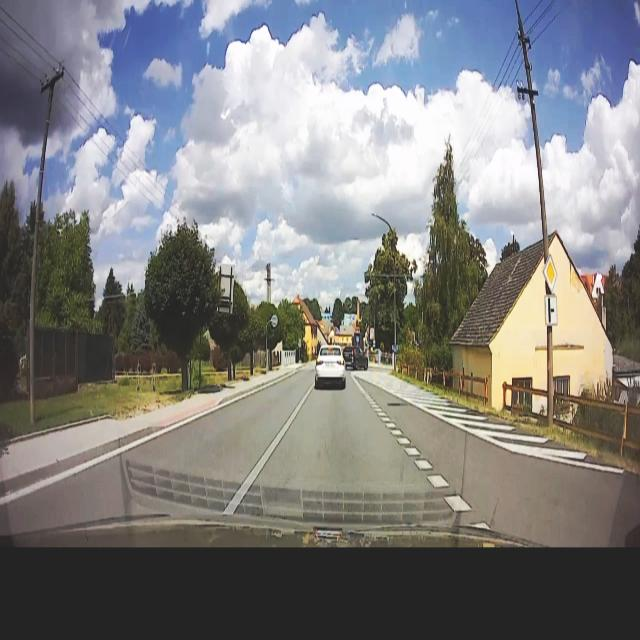Priority road: (543, 251, 558, 293)
